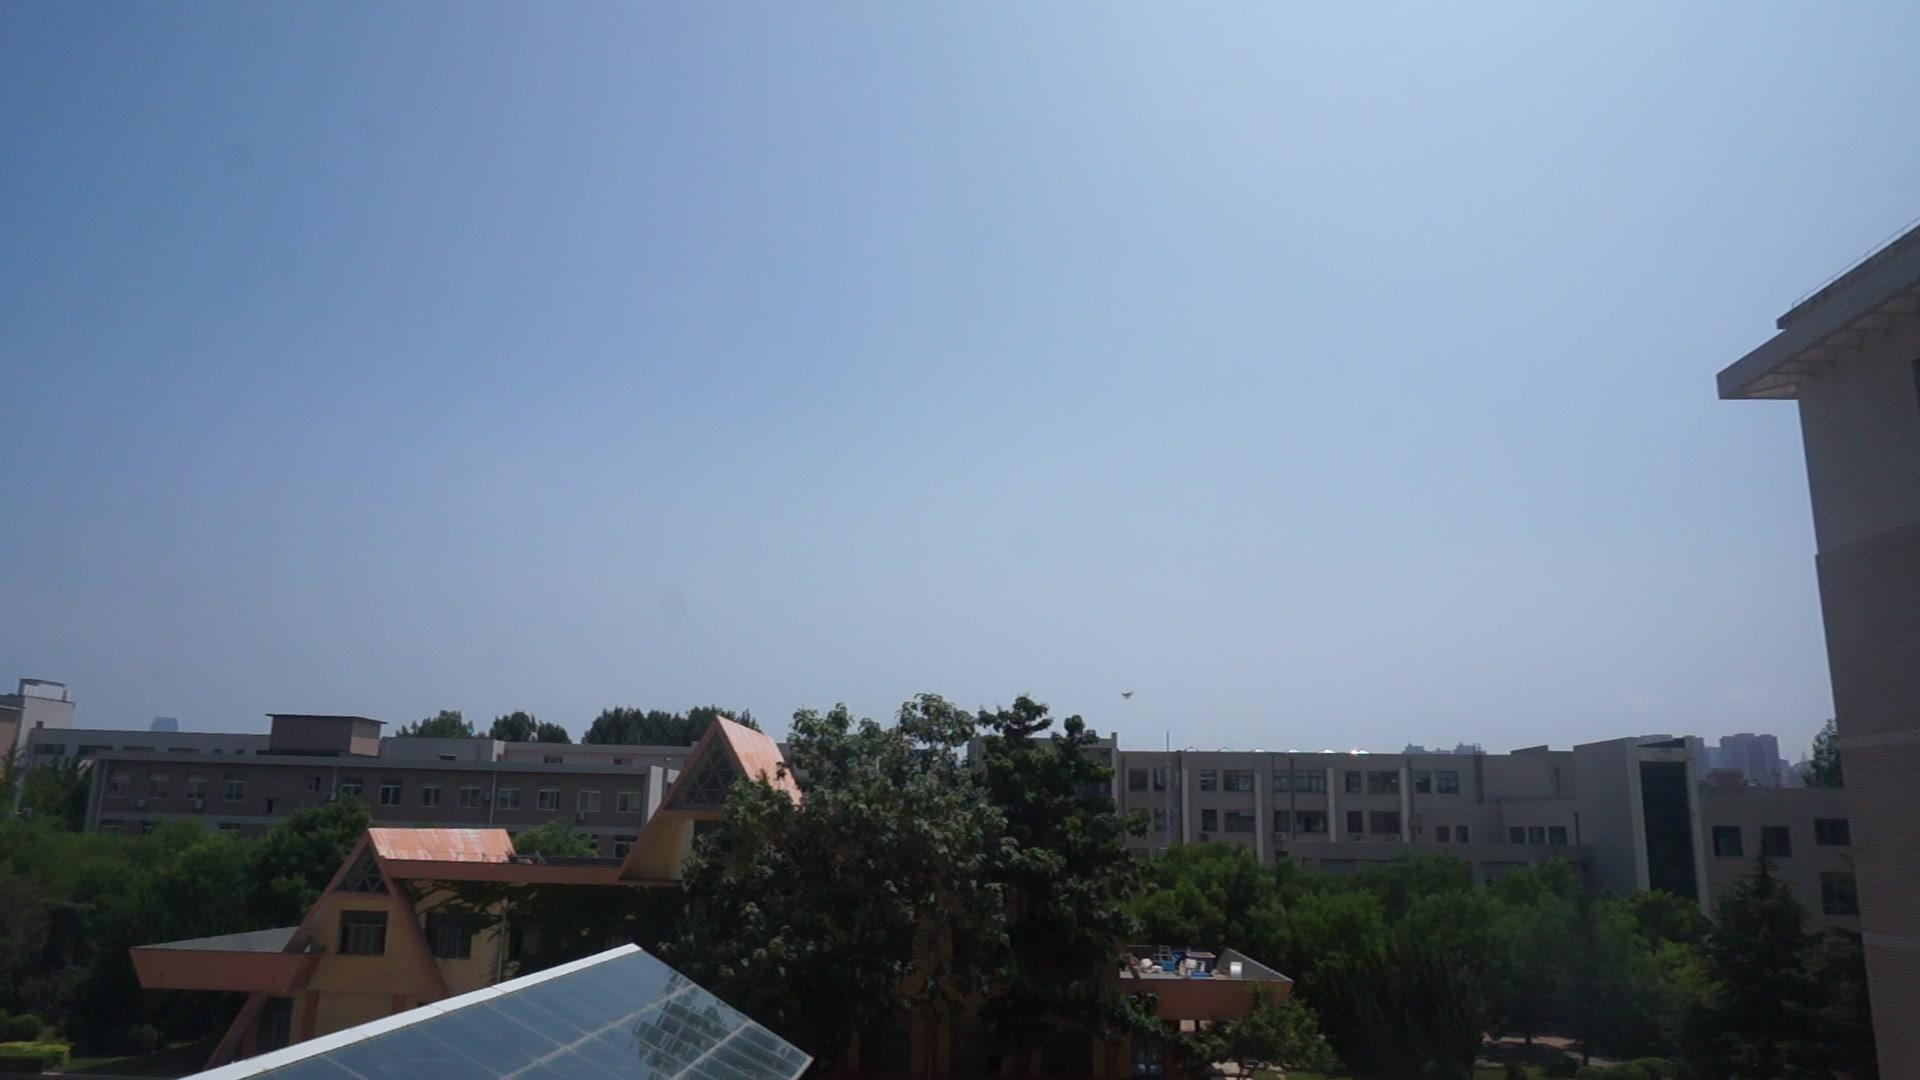UAV: (1120, 692, 1139, 702)
